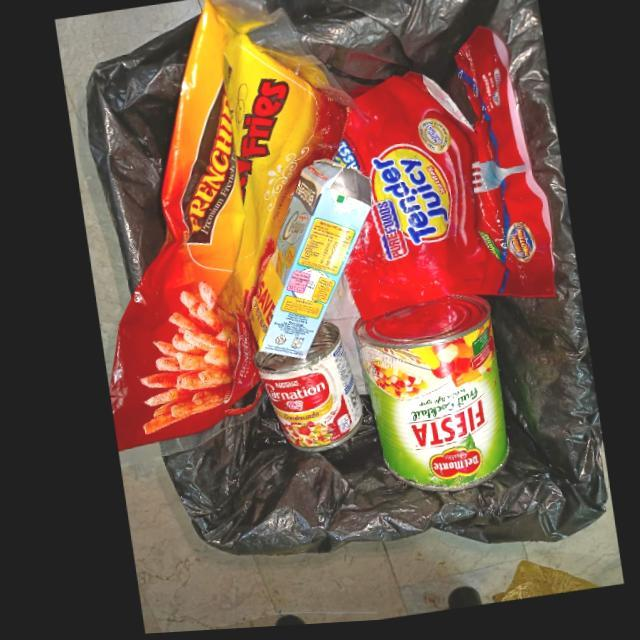metal: (348, 300, 503, 496), (248, 324, 357, 455)
paper: (245, 164, 369, 361)
wrapper: (103, 0, 350, 467), (339, 29, 552, 325)
